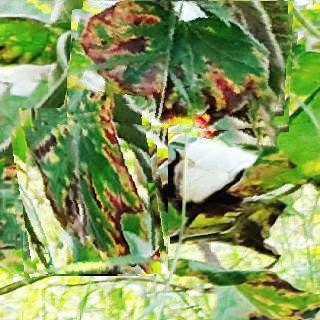blight: (67, 1, 294, 142), (6, 111, 168, 274)
